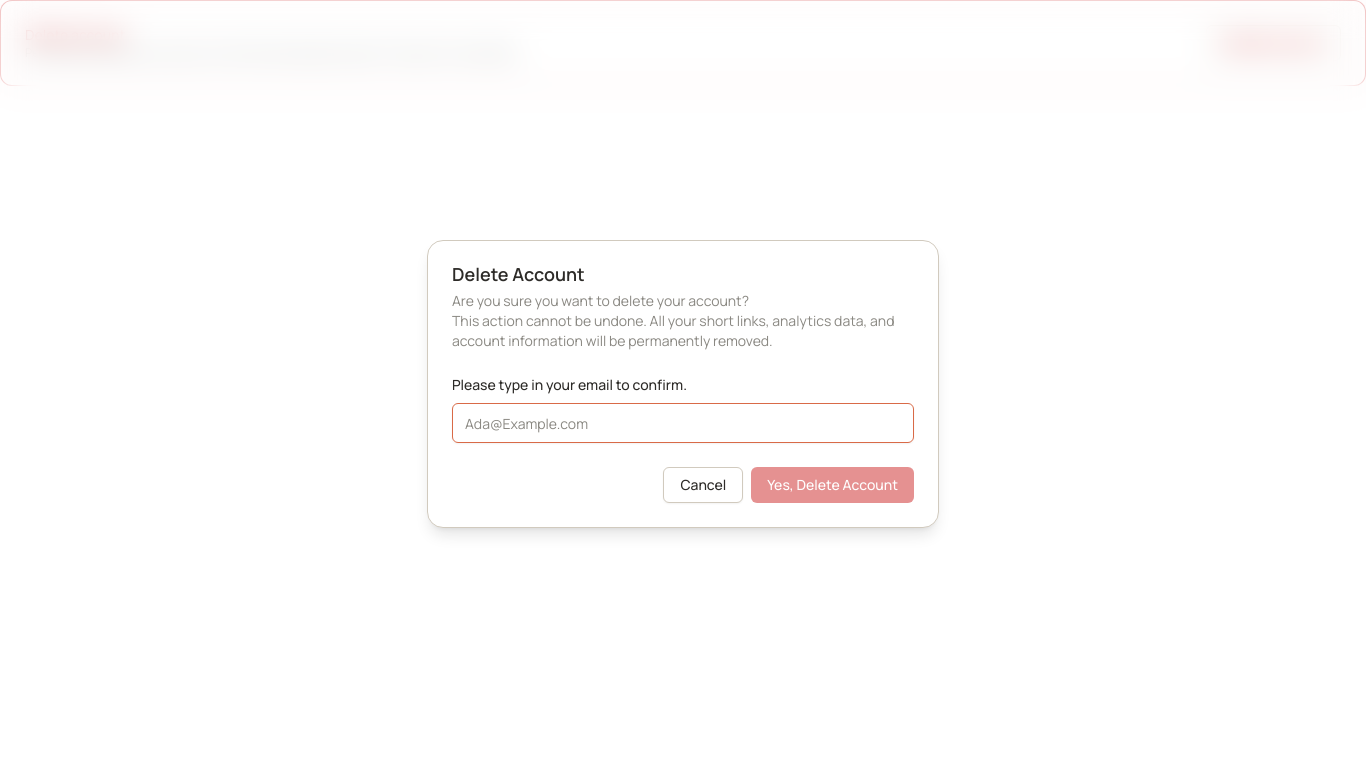
Test: DangerZoneCard confirmation as a desktop dialog › enables the final delete button when the typed email matches ignoring case and whitespace
The image size is (1366, 768).
Step 1. Type "  ada@example.COM " into the field labelled "Please type in your email to confirm." → (683, 423), box left=452, top=403, right=914, bottom=443
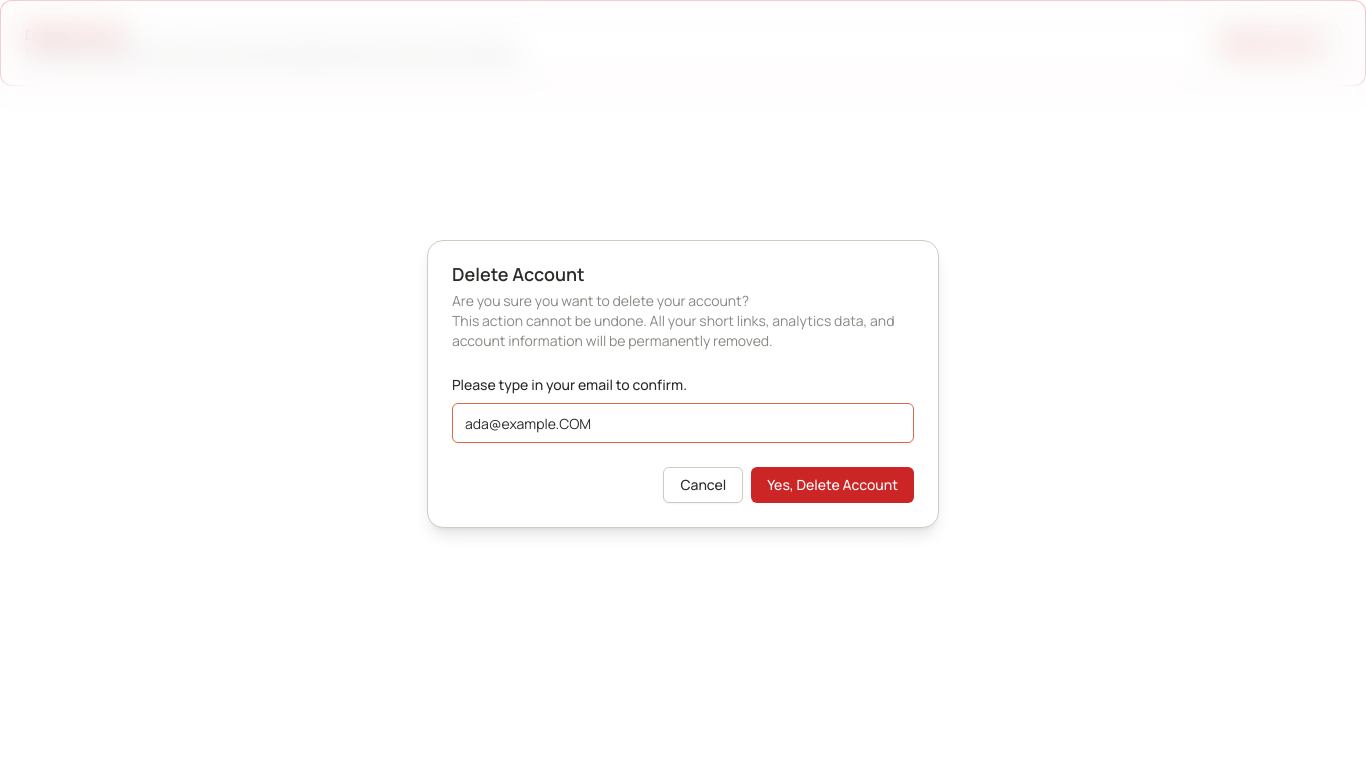
Result: the button "Yes, Delete Account" is enabled at left=751, top=467, right=914, bottom=503
